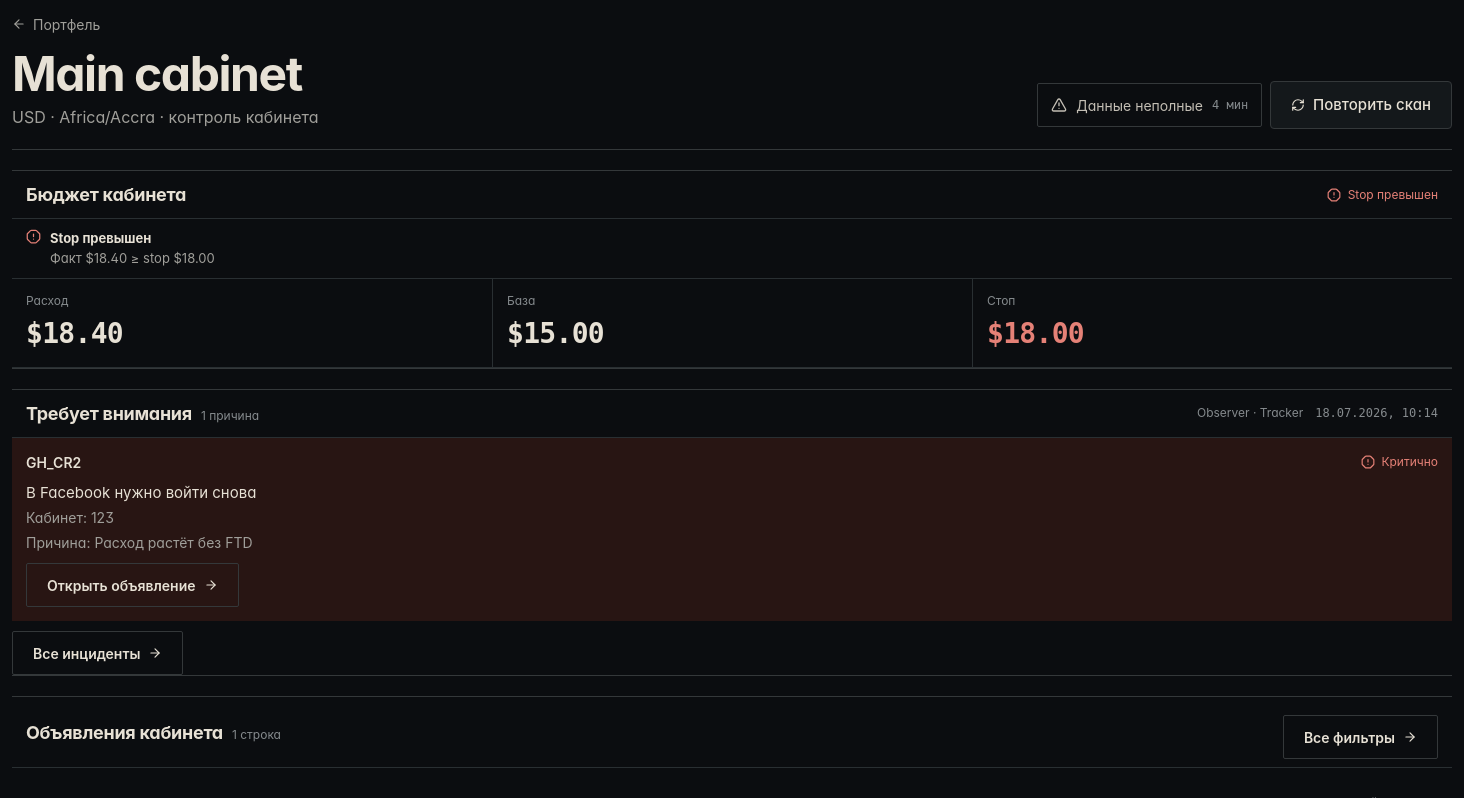
it: operator cabinet page › shows the recovery banner for an incident that belongs to this cabinet
Click the button "Повторить скан".
click(1361, 105)  # box [1270,81,1452,129]
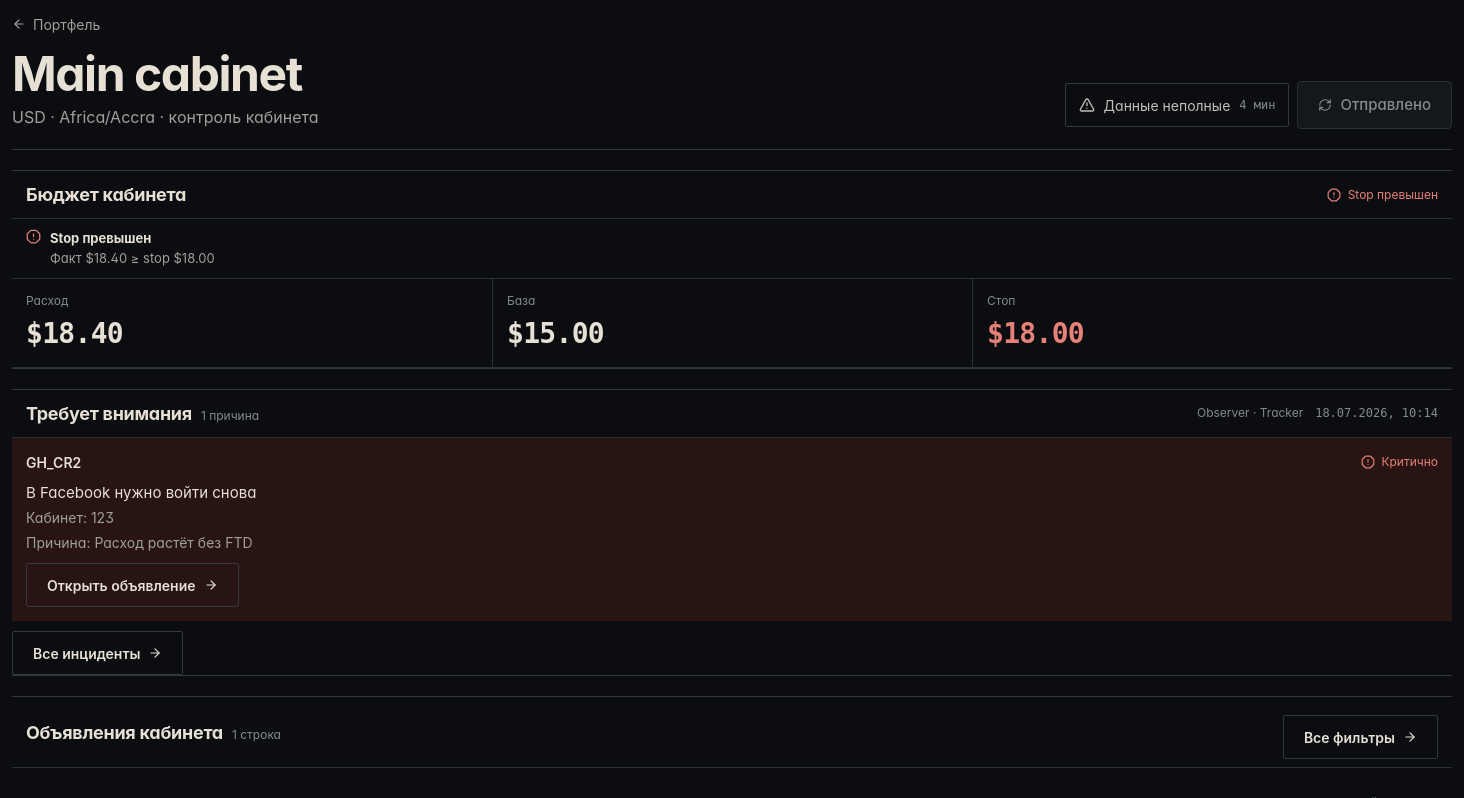
Now the button "Отправлено" is disabled, box [1297,81,1452,129]
